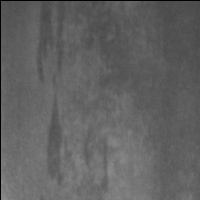inclusion: (46, 78, 76, 191), (33, 2, 69, 88), (82, 122, 115, 193)
